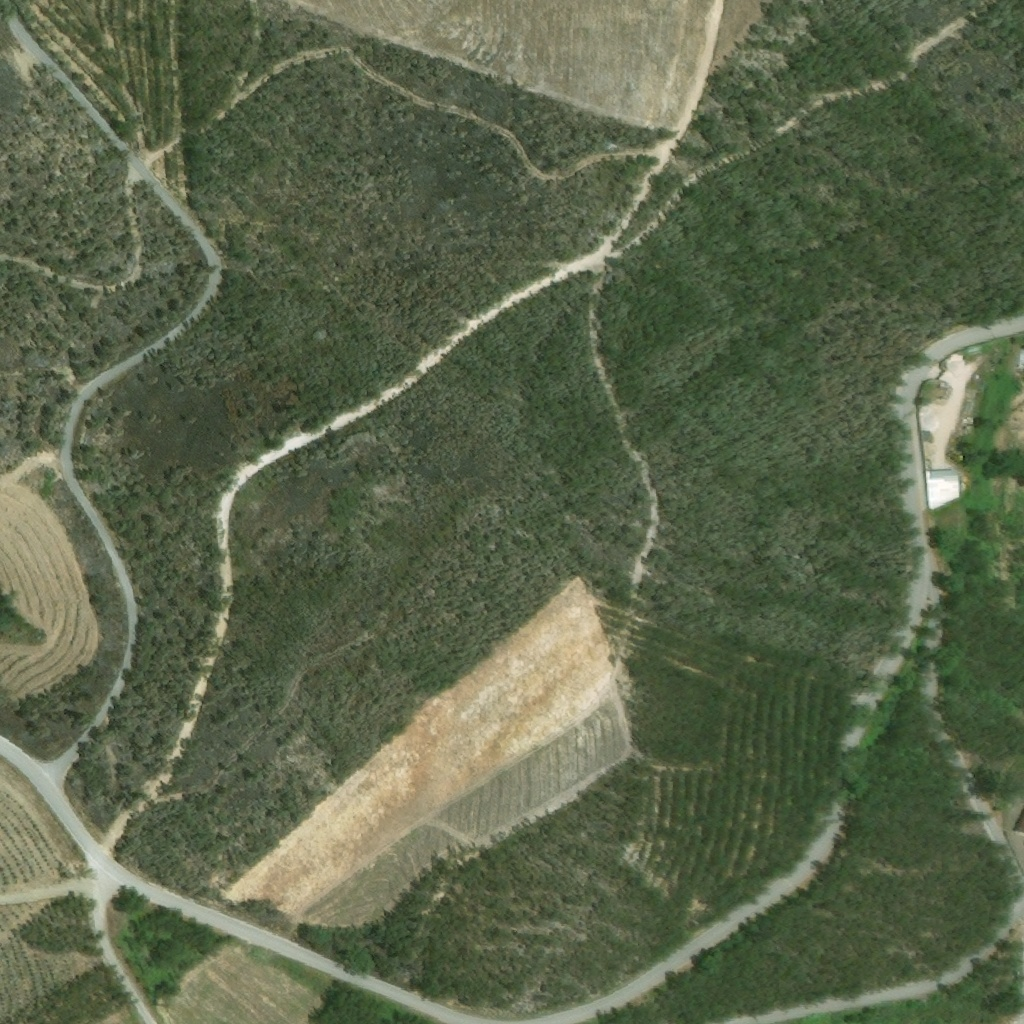0 no-damage: (922, 471, 958, 511)
4 un-classified: (1009, 806, 1023, 838)
